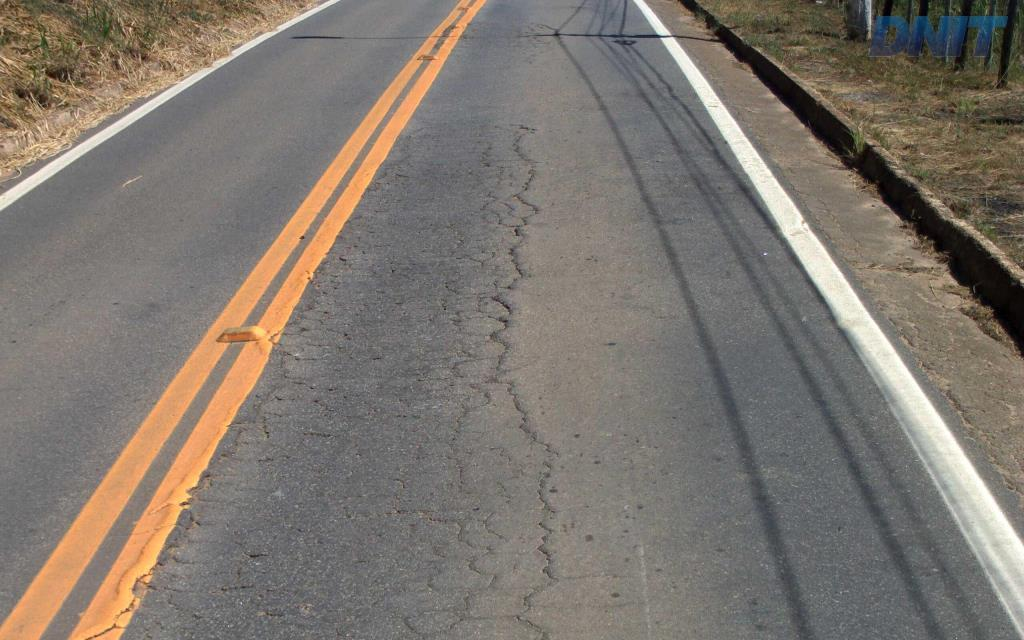crack: (244, 585, 316, 631)
